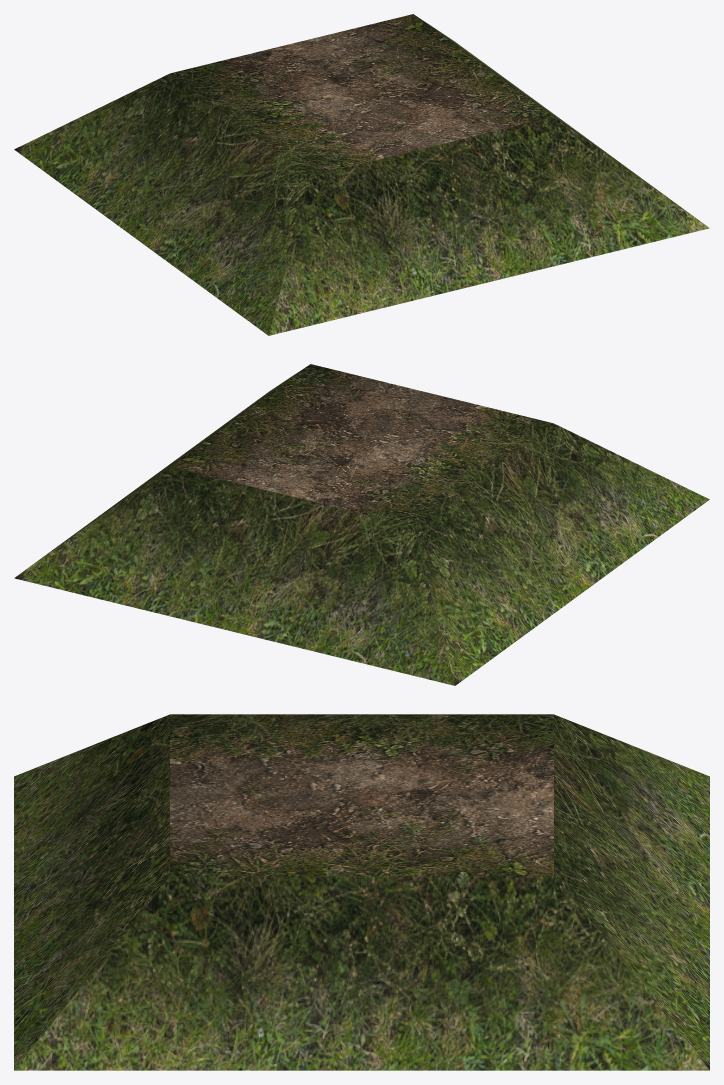
The model's file is Grass_Stump.fbx.
3 renders of one model, top to bottom at view 1: azimuth 30°, elevation 25°; view 2: azimuth 150°, elevation 25°; view 3: azimuth 270°, elevation 25°, orthographic. The views are drawn at different scales.
Visible parts, largest first — view 1: Cube; view 2: Cube; view 3: Cube.
Boxes of the visible parts, x1=… form: Cube: x1=14, y1=14, x2=709, y2=335; Cube: x1=14, y1=364, x2=709, y2=685; Cube: x1=14, y1=714, x2=709, y2=1070.
Bounding box in the file's own units: 2 × 0.4063 × 2.
1 material, 1 textured.
